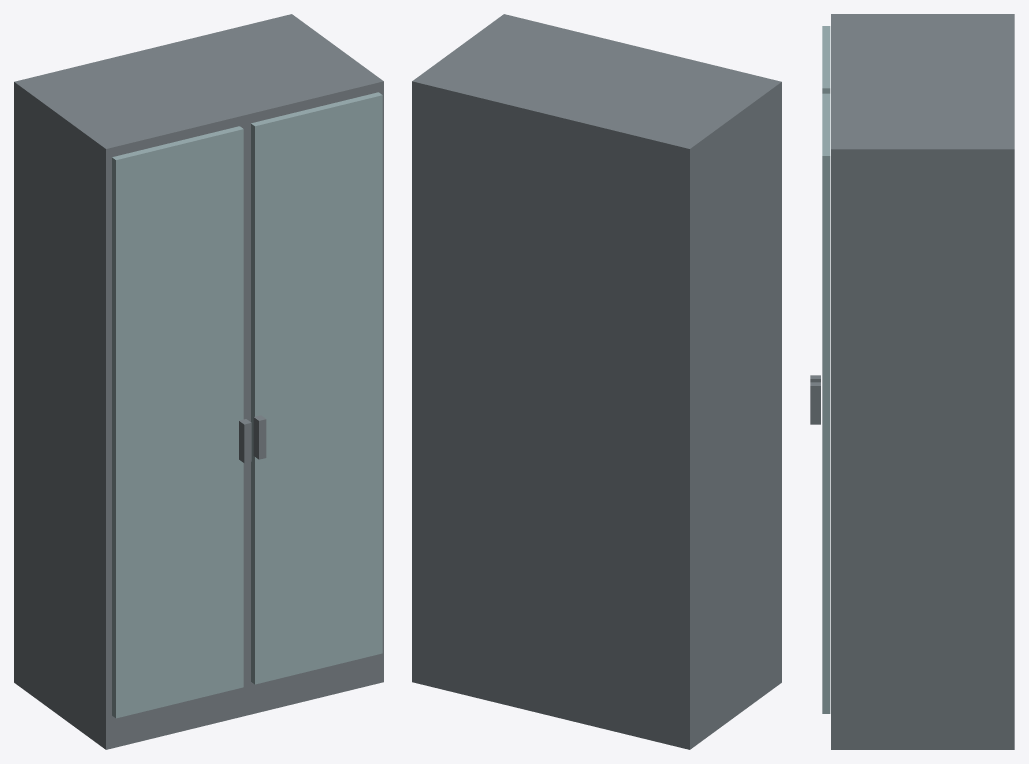
The model's file is STO-004.glb.
3 views of the same model, side by side, from view 1: azimuth 30°, elevation 25°; view 2: azimuth 150°, elevation 25°; view 3: azimuth 270°, elevation 25° (orthographic).
Parts seen in each view (by area): view 1: 000_Cabinet_body, 001_Cabinet_door_L, 002_Cabinet_door_R; view 2: 000_Cabinet_body; view 3: 000_Cabinet_body, 002_Cabinet_door_R, 001_Cabinet_door_L, 007_Door_pull.
Part boxes in pixels (left/top/right/bottom): 000_Cabinet_body: left=14, top=14, right=383, bottom=749; 001_Cabinet_door_L: left=112, top=126, right=243, bottom=718; 002_Cabinet_door_R: left=251, top=92, right=382, bottom=684; 000_Cabinet_body: left=412, top=14, right=781, bottom=749; 000_Cabinet_body: left=831, top=14, right=1014, bottom=749; 002_Cabinet_door_R: left=822, top=93, right=830, bottom=713; 001_Cabinet_door_L: left=822, top=26, right=830, bottom=93; 007_Door_pull: left=810, top=382, right=820, bottom=424.
Bounding box in the file's own units: 0.75 × 1.55 × 0.4785.
